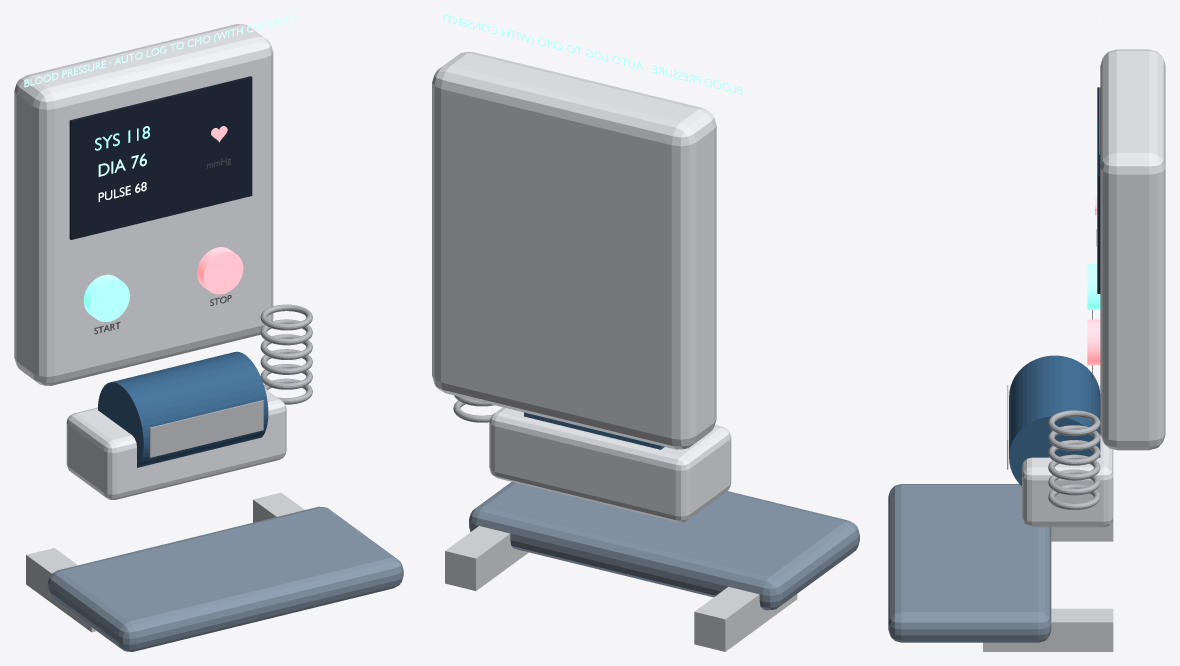
Rendered from bp_monitor.glb.
3 views of the same model, side by side, from view 1: azimuth 30°, elevation 25°; view 2: azimuth 150°, elevation 25°; view 3: azimuth 270°, elevation 25° (orthographic). The views are drawn at different scales.
Visible parts, largest first — view 1: BP_Unit, Arm_Rest, BP_Screen, BP_Cuff, Cuff_Holder, Cuff_Velcro, Start_Button, Stop_Button, Rest_Bracket, BP_Label, Rest_Bracket.001, Coiled_Hose (+4 smaller); view 2: BP_Unit, Arm_Rest, Cuff_Holder, Rest_Bracket, Rest_Bracket.001, BP_Label, BP_Cuff; view 3: BP_Unit, Arm_Rest, BP_Cuff, Cuff_Holder, Rest_Bracket.001, Rest_Bracket, BP_Screen, Coiled_Hose, Stop_Button, Coiled_Hose.004, Coiled_Hose.001, Coiled_Hose.002 (+3 smaller).
Part boxes in pixels (x1,y1,x2,y2): BP_Unit: (14,24,273,385); Arm_Rest: (47,506,403,651); BP_Screen: (69,76,252,239); BP_Cuff: (98,351,268,467); Cuff_Holder: (66,388,286,499); Cuff_Velcro: (149,400,263,457); Start_Button: (83,274,129,321); Stop_Button: (197,247,243,294); Rest_Bracket: (26,548,96,632); BP_Label: (24,14,296,87); Rest_Bracket.001: (253,492,304,522); Coiled_Hose: (260,304,312,330); BP_Unit: (432,52,716,449); Arm_Rest: (469,482,859,610); Cuff_Holder: (489,407,731,522); Rest_Bracket: (694,587,797,651); Rest_Bracket.001: (445,526,528,590); BP_Label: (443,14,742,94); BP_Cuff: (524,412,664,449); BP_Unit: (1100,49,1165,450); Arm_Rest: (888,484,1051,642); BP_Cuff: (1009,355,1100,485); Cuff_Holder: (1022,386,1113,527); Rest_Bracket.001: (983,608,1113,651); Rest_Bracket: (1051,519,1113,541); BP_Screen: (1097,87,1100,293); Coiled_Hose: (1048,410,1100,436); Stop_Button: (1087,319,1100,365); Coiled_Hose.004: (1048,469,1100,495); Coiled_Hose.001: (1048,425,1100,450); Coiled_Hose.002: (1048,440,1100,465).
Bounding box in the file's own units: 0.5 × 0.8621 × 0.425.
